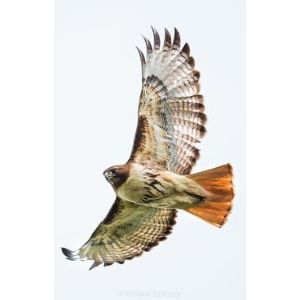hawk: (57, 19, 240, 272)
